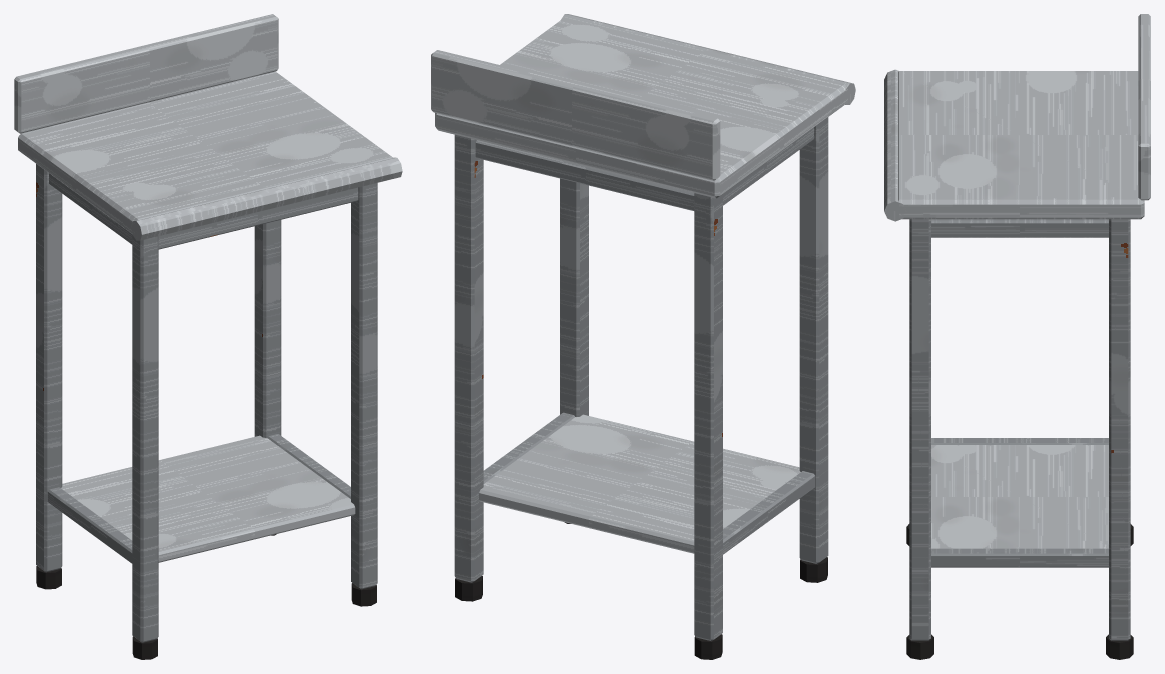
The model's file is steel_table.glb.
The picture shows the model from 3 angles, left to right: view 1: azimuth 30°, elevation 25°; view 2: azimuth 150°, elevation 25°; view 3: azimuth 270°, elevation 25°; orthographic projection. The views are drawn at different scales.
Visible parts, largest first — view 1: p; view 2: p; view 3: p.
Boxes of the visible parts, left/top/right/bottom form: p: left=14, top=14, right=402, bottom=659; p: left=431, top=14, right=855, bottom=659; p: left=884, top=14, right=1150, bottom=659.
Size of the model in its own units: 0.5 by 0.92 by 0.428.
Materials: 3 (3 with a texture image).
